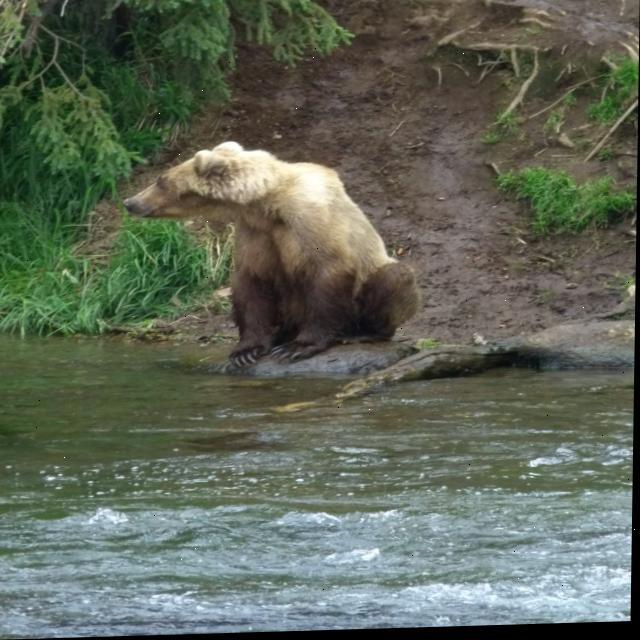bear face: (120, 138, 422, 371)
